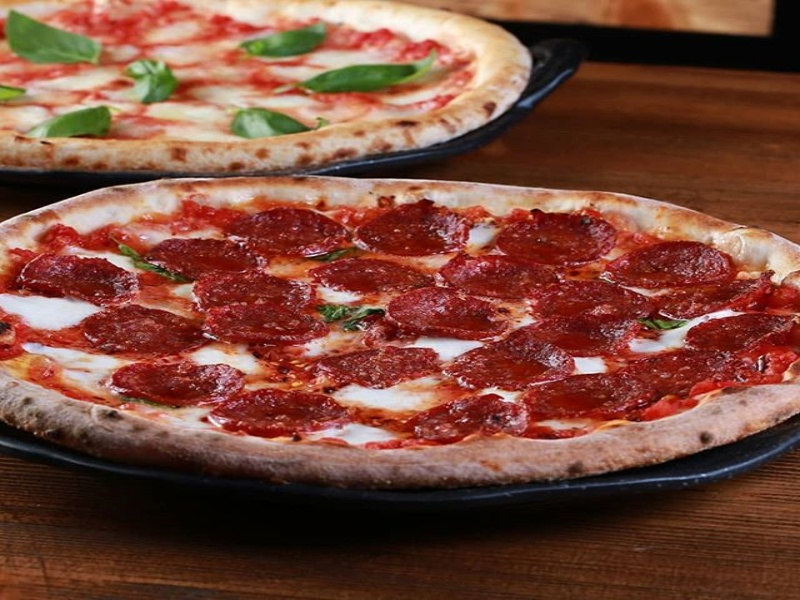peperoni: (22, 250, 141, 308), (524, 372, 656, 424), (387, 283, 511, 338), (496, 211, 618, 265), (120, 356, 245, 408), (357, 201, 469, 256), (533, 277, 661, 325), (87, 303, 204, 355), (235, 208, 348, 259), (208, 298, 324, 343), (315, 347, 445, 386), (149, 234, 252, 280)
